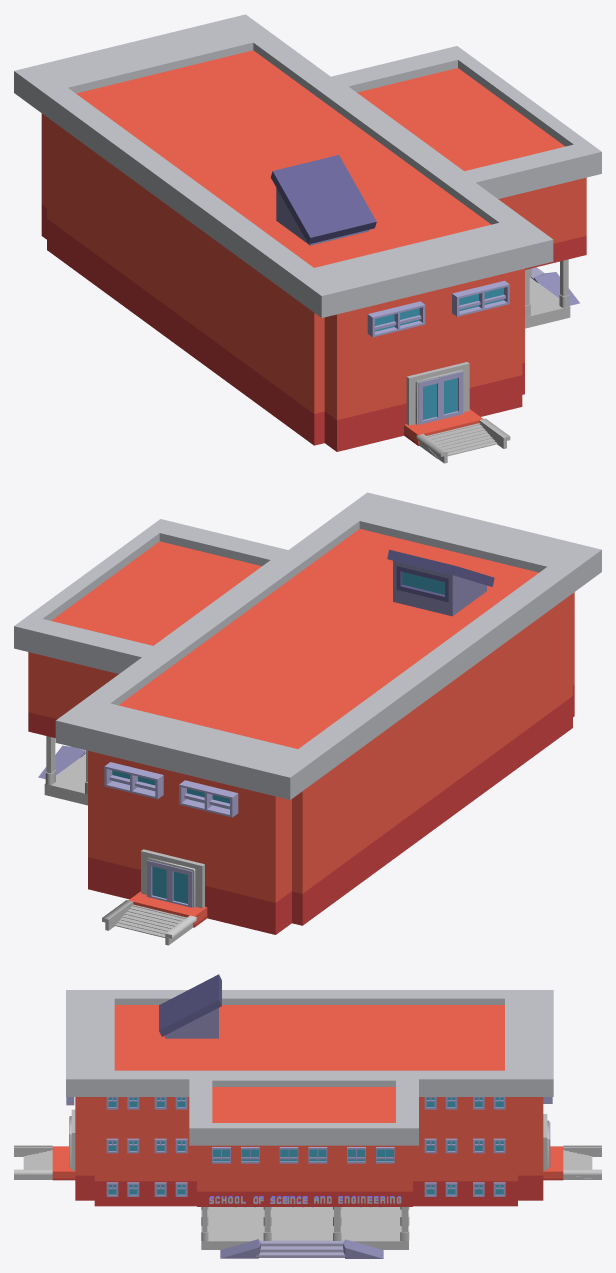
The model's file is SSE_V1.1.obj.
The picture shows the model from 3 angles, top to bottom: view 1: azimuth 30°, elevation 25°; view 2: azimuth 150°, elevation 25°; view 3: azimuth 270°, elevation 25°; orthographic projection. The views are drawn at different scales.
Parts seen in each view (by area): view 1: mergedBlocks; view 2: mergedBlocks; view 3: mergedBlocks.
Boxes of the visible parts, left/top/right/bottom form: mergedBlocks: left=14, top=14, right=601, bottom=463; mergedBlocks: left=14, top=492, right=601, bottom=945; mergedBlocks: left=14, top=974, right=601, bottom=1258.
Bounding box in the file's own units: 3.4 × 1.89 × 6.1.
